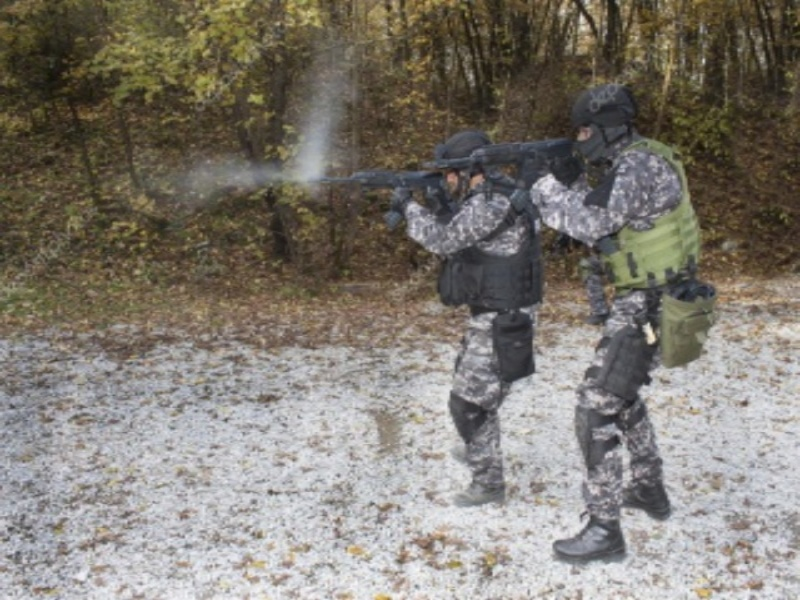person: (524, 84, 714, 562), (391, 130, 540, 504)
weapon: (426, 137, 585, 191), (312, 168, 447, 215)
